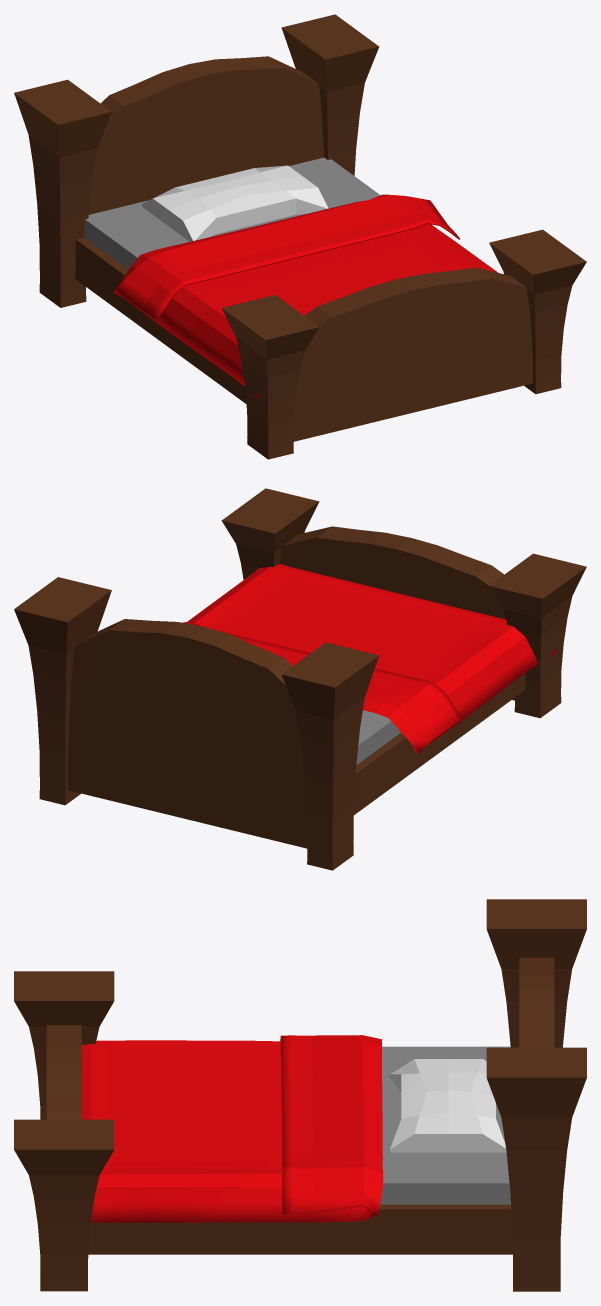
The model's file is Bed Updated.fbx.
3 renders of one model, top to bottom at view 1: azimuth 30°, elevation 25°; view 2: azimuth 150°, elevation 25°; view 3: azimuth 270°, elevation 25°, orthographic. The views are drawn at different scales.
Visible parts, largest first — view 1: Bed.001, Blanket.001, Pillow.001; view 2: Bed.001, Blanket.001; view 3: Bed.001, Blanket.001, Pillow.001.
Boxes of the visible parts, x1,y1,x2,y2 form: Bed.001: [14, 14, 586, 459]; Blanket.001: [114, 194, 497, 398]; Pillow.001: [142, 165, 328, 241]; Bed.001: [14, 488, 586, 870]; Blanket.001: [183, 564, 557, 753]; Bed.001: [14, 899, 586, 1291]; Blanket.001: [81, 1035, 383, 1222]; Pillow.001: [390, 1059, 506, 1152].
Bounding box in the file's own units: 208 × 120 × 282.
